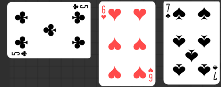4H: (101, 5, 108, 21)
5C: (11, 50, 29, 58)
7C: (165, 3, 172, 20)
